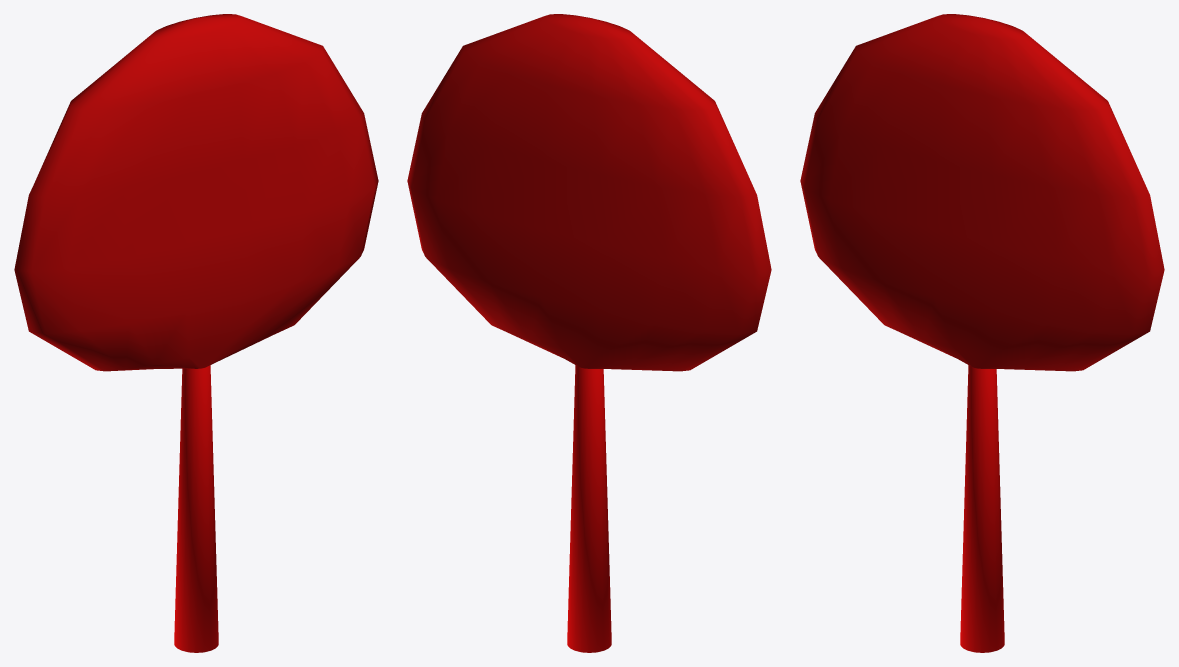
Rendered from Lollipop.FBX.
3 renders of one model, left to right at view 1: azimuth 30°, elevation 25°; view 2: azimuth 150°, elevation 25°; view 3: azimuth 330°, elevation 25°, orthographic.
Visible parts, largest first — view 1: Object001; view 2: Object001; view 3: Object001.
Boxes of the visible parts, bbox=[...] form: Object001: bbox=[14, 14, 378, 652]; Object001: bbox=[407, 14, 771, 652]; Object001: bbox=[800, 14, 1164, 652].
Bounding box in the file's own units: 62.27 × 102 × 11.26.
